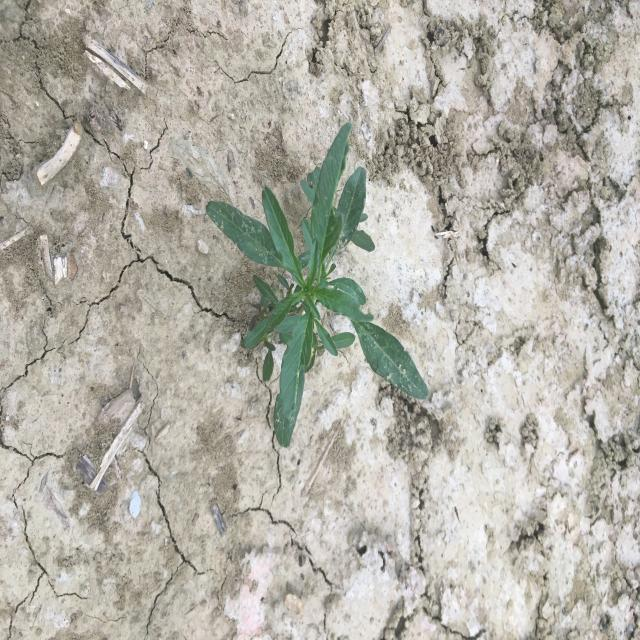Waterhemp: (205, 119, 431, 450)
